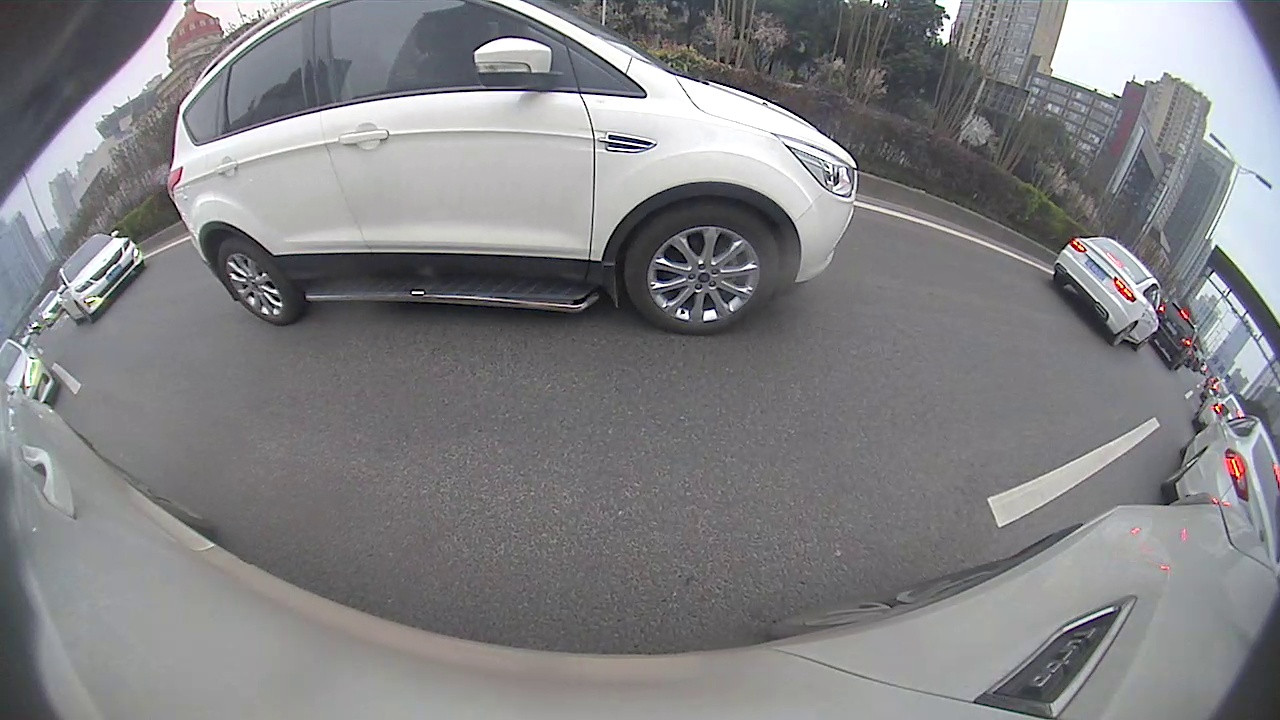car: (164, 1, 860, 336), (1159, 401, 1279, 564), (1055, 235, 1168, 352), (55, 228, 145, 326), (1, 334, 58, 407), (1154, 299, 1204, 372)
front: (624, 198, 783, 335)
rear: (218, 237, 300, 326), (1111, 320, 1139, 350)
